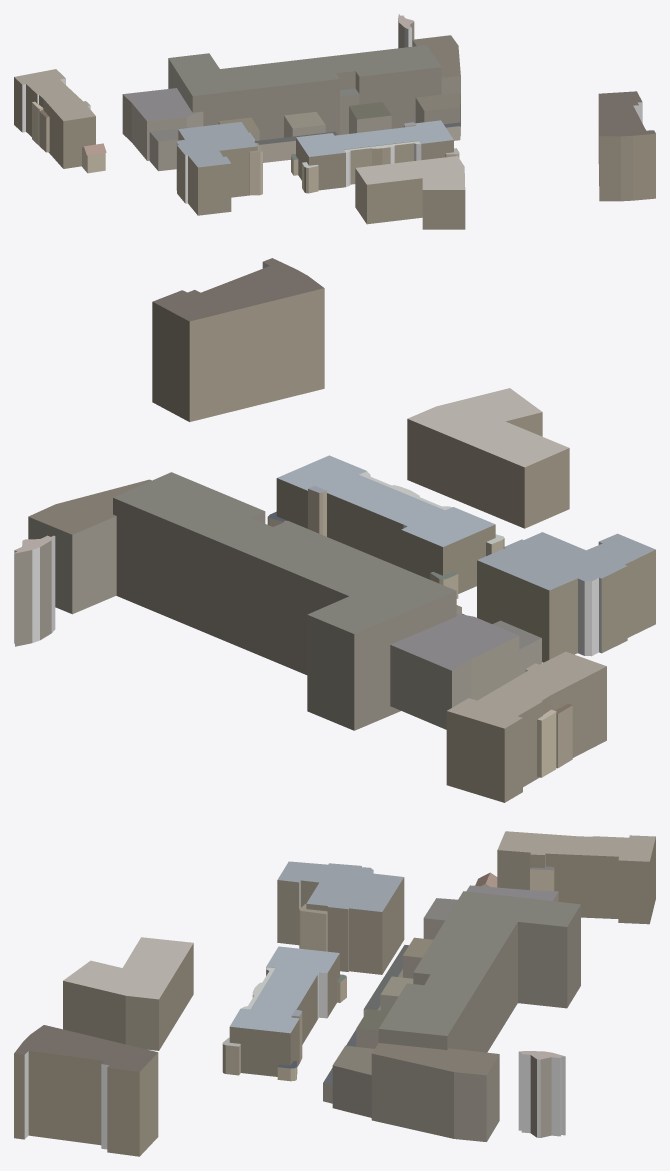
3 views of the same model, one above another, from view 1: azimuth 30°, elevation 25°; view 2: azimuth 150°, elevation 25°; view 3: azimuth 270°, elevation 25° (orthographic). The views are drawn at different scales.
Parts seen in each view (by area): view 1: tuile; view 2: tuile; view 3: tuile.
Boxes of the visible parts, left/top/right/bottom form: tuile: left=14, top=14, right=655, bottom=229; tuile: left=14, top=258, right=655, bottom=802; tuile: left=14, top=831, right=655, bottom=1156.
Bounding box in the file's own units: 179 × 33.36 × 176.
